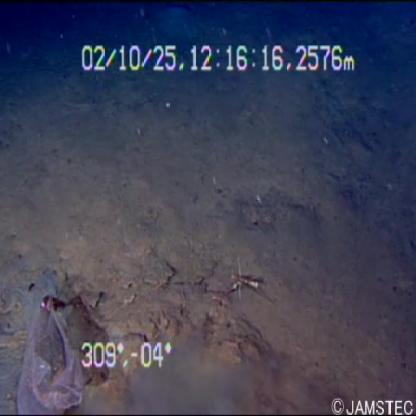Rác: (11, 279, 96, 416)
